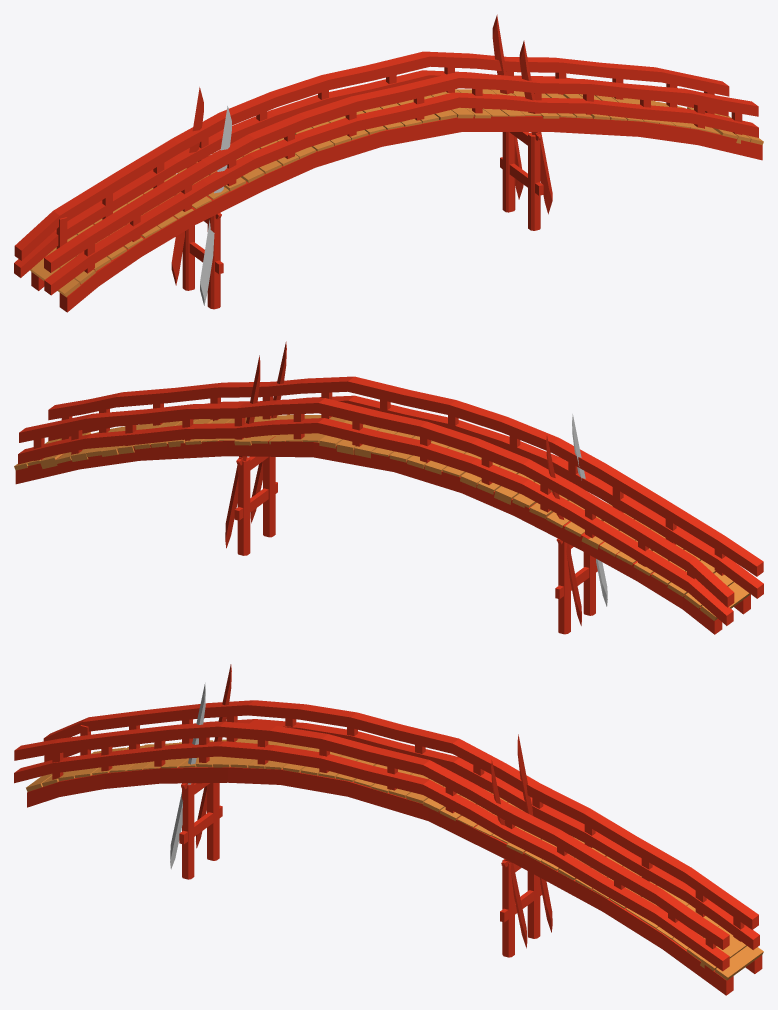
File: japansebrug.fbx
The picture shows the model from 3 angles, top to bottom: view 1: azimuth 30°, elevation 25°; view 2: azimuth 150°, elevation 25°; view 3: azimuth 330°, elevation 25°; orthographic projection.
Visible parts, largest first — view 1: Cube.080, Cube.078, Cube.081, Cube.009, Cube.079, Cube.001, Cube.004, Cube.006, Cube, Cube.007, Cube.003, Cube.002; view 2: Cube.078, Cube.080, Cube.079, Cube.008, Cube.081, Cube.001, Cube.004, Cube.003, Cube.007, Cube.002, Cube.006, Cube; view 3: Cube.080, Cube.078, Cube.081, Cube.009, Cube.079, Cube.004, Cube.001, Cube.003, Cube.006, Cube, Cube.074, Cube.005.
Part boxes in pixels (left/top/right/bottom): Cube.080: left=44, top=73, right=758, bottom=272; Cube.078: left=14, top=51, right=729, bottom=260; Cube.081: left=44, top=92, right=758, bottom=295; Cube.009: left=59, top=115, right=762, bottom=312; Cube.079: left=14, top=70, right=728, bottom=277; Cube.001: left=502, top=132, right=540, bottom=230; Cube.004: left=182, top=212, right=220, bottom=309; Cube.006: left=200, top=106, right=231, bottom=305; Cube: left=519, top=40, right=552, bottom=214; Cube.007: left=171, top=87, right=203, bottom=285; Cube.003: left=492, top=14, right=523, bottom=199; Cube.002: left=500, top=132, right=543, bottom=195; Cube.078: left=19, top=398, right=734, bottom=607; Cube.080: left=48, top=376, right=763, bottom=576; Cube.079: left=18, top=418, right=733, bottom=625; Cube.008: left=15, top=436, right=722, bottom=634; Cube.081: left=48, top=395, right=763, bottom=598; Cube.001: left=237, top=456, right=275, bottom=555; Cube.004: left=558, top=541, right=595, bottom=634; Cube.003: left=225, top=355, right=260, bottom=548; Cube.007: left=546, top=436, right=581, bottom=625; Cube.002: left=234, top=456, right=277, bottom=520; Cube.006: left=572, top=414, right=607, bottom=606; Cube: left=250, top=341, right=286, bottom=523; Cube.080: left=14, top=721, right=729, bottom=949; Cube.078: left=43, top=700, right=758, bottom=929; Cube.081: left=14, top=741, right=729, bottom=971; Cube.009: left=27, top=766, right=733, bottom=995; Cube.079: left=44, top=719, right=759, bottom=949; Cube.004: left=182, top=783, right=219, bottom=879; Cube.001: left=502, top=859, right=540, bottom=957; Cube.003: left=517, top=734, right=552, bottom=932; Cube.006: left=170, top=682, right=205, bottom=869; Cube: left=491, top=760, right=527, bottom=948; Cube.074: left=714, top=946, right=763, bottom=980; Cube.005: left=179, top=783, right=222, bottom=844.
Size of the model in its own units: 8658 by 2327 by 820.
